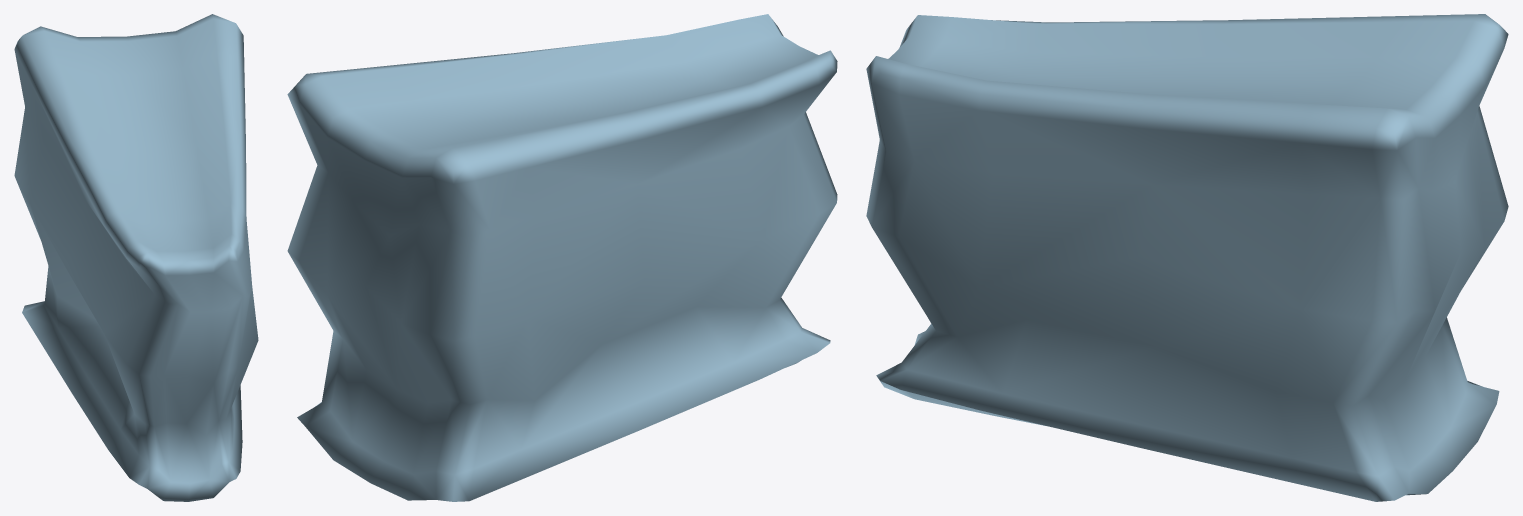
File: terrain_W2lakec.fbx
The picture shows the model from 3 angles, left to right: view 1: azimuth 30°, elevation 25°; view 2: azimuth 150°, elevation 25°; view 3: azimuth 270°, elevation 25°; orthographic projection. The views are drawn at different scales.
Parts seen in each view (by area): view 1: W2A8c_mesh; view 2: W2A8c_mesh; view 3: W2A8c_mesh.
Boxes of the visible parts, x1,y1,x2,y2 form: W2A8c_mesh: (14,14,258,501); W2A8c_mesh: (287,14,837,501); W2A8c_mesh: (866,14,1508,501).
Size of the model in its own units: 4793 by 5098 by 7249.
